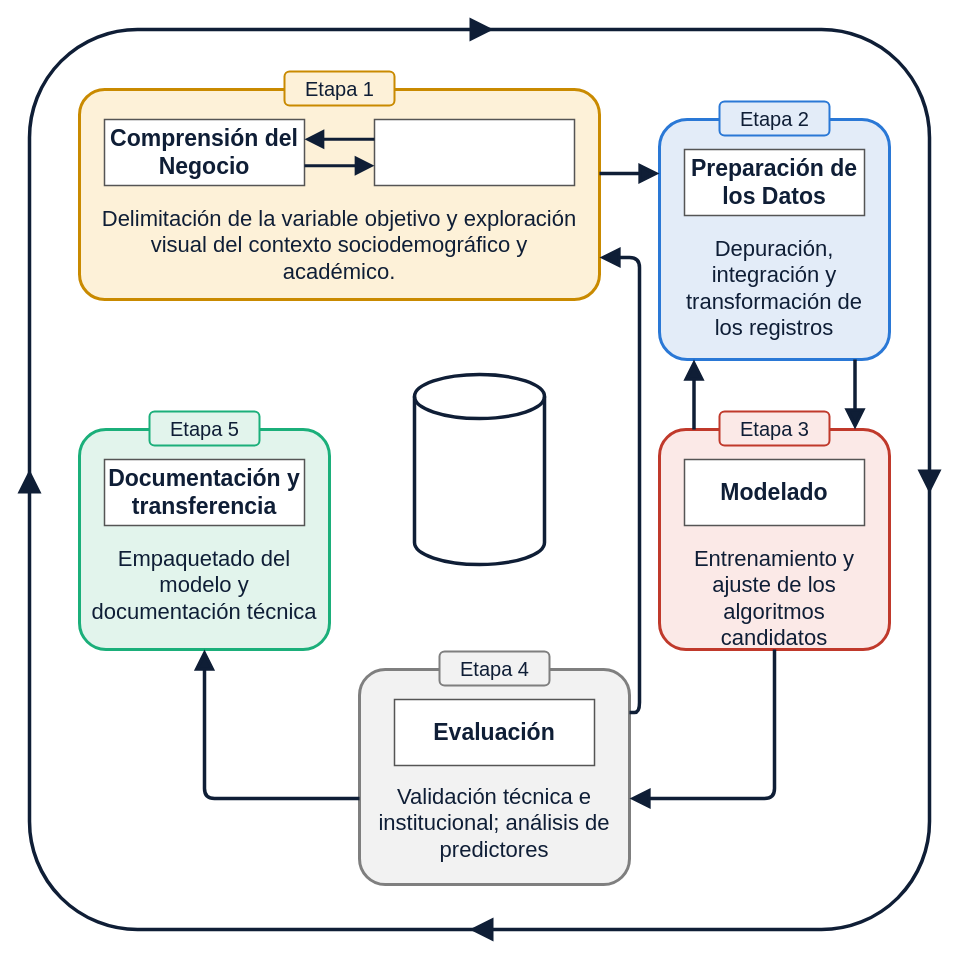
This 958x958 diagram has some shape labels left out. The box of each missing label's shape, as (x1, y1, x2, y2) in pixels:
Comprensión de los Datos: (373, 118, 575, 186)
Datos: (412, 372, 546, 566)
